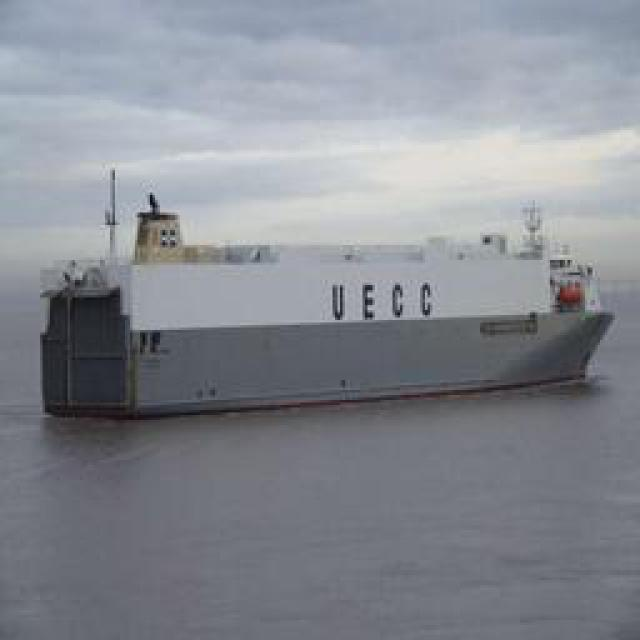Ship: (46, 186, 619, 421)
